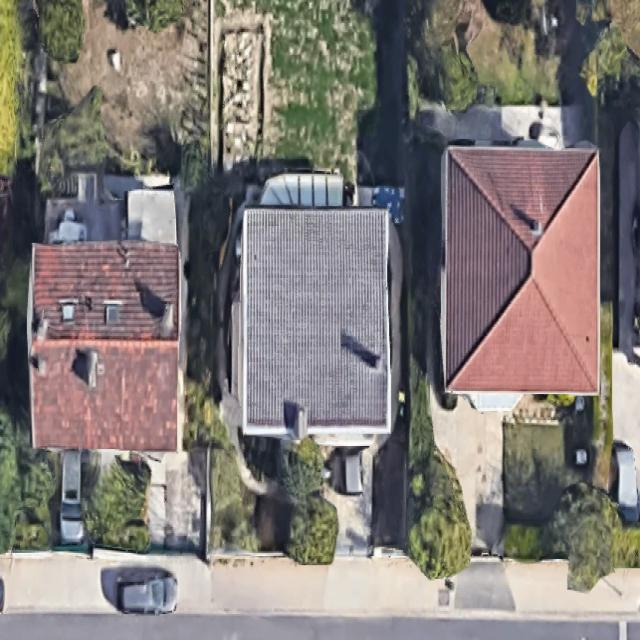maison: (440, 141, 598, 411), (238, 208, 396, 434), (25, 239, 183, 453)
